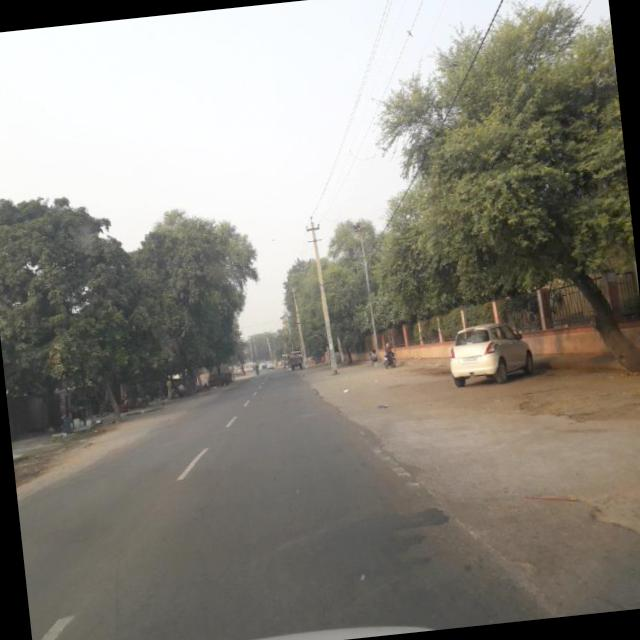pothole: (572, 475, 640, 559)
